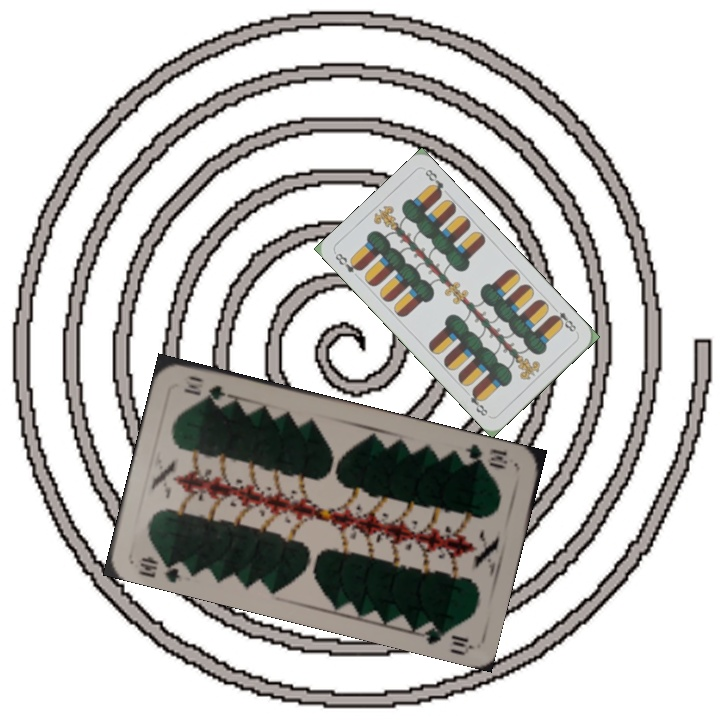E8: (548, 303, 580, 336), (331, 249, 364, 275)
G10: (134, 552, 191, 584), (461, 439, 511, 472)
